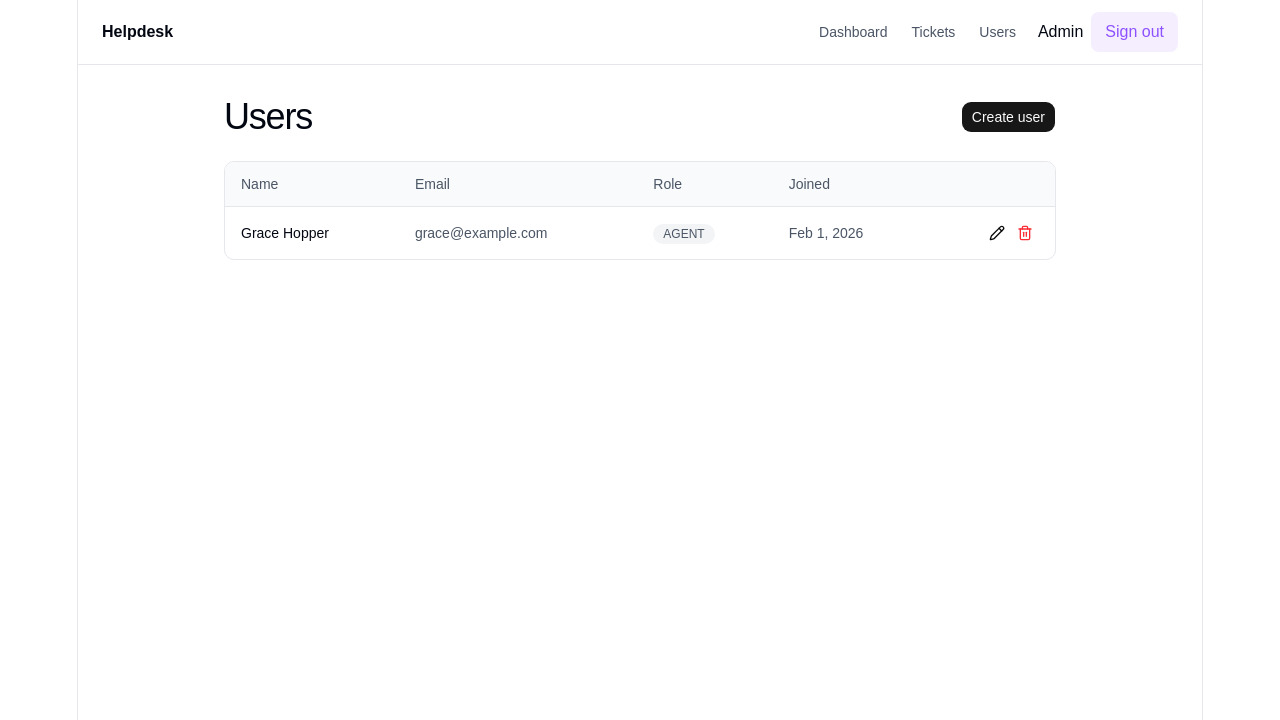
Test case: UsersPage › opens the delete confirmation modal when the delete button is clicked for a non-admin user
expect the text "Grace Hopper" is shown: met, box [225,206,399,259]
Click the button named "Delete Grace Hopper": point(1025, 233) [1011,219,1039,247]
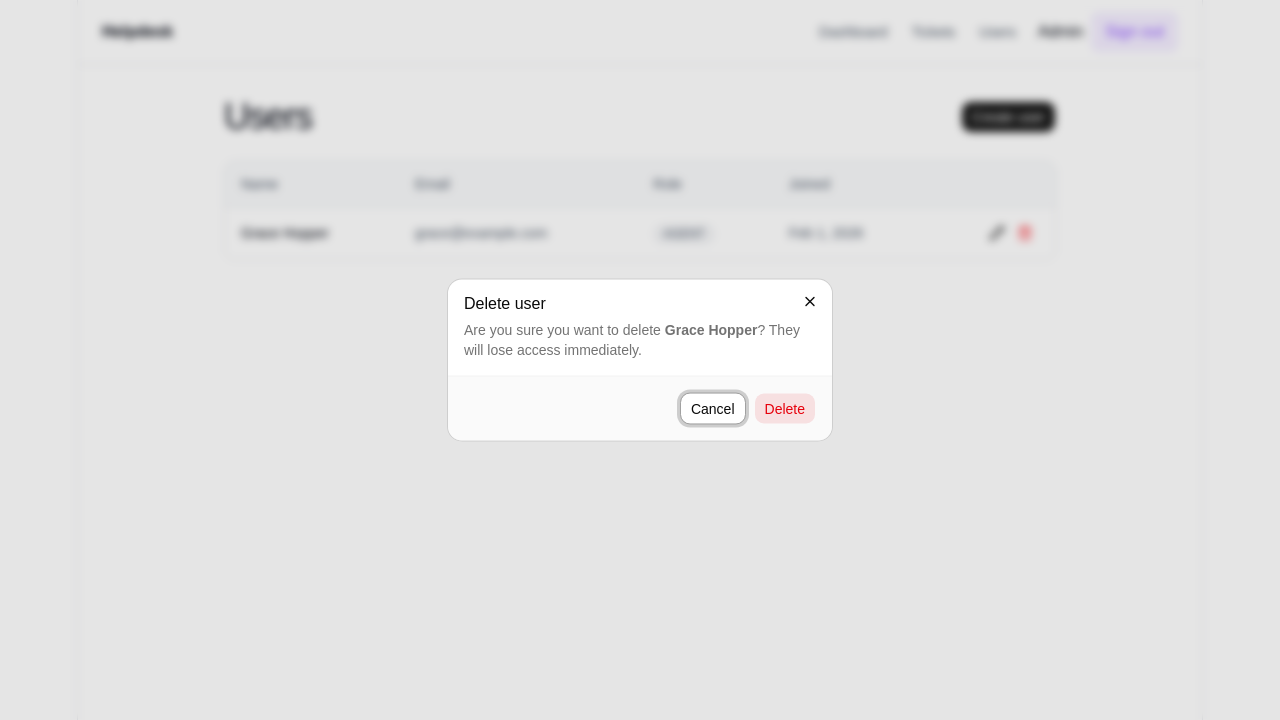
expect the dialog is shown: met, box [448,280,832,440]
expect the heading "Delete user" is shown: met, box [464,294,546,312]
